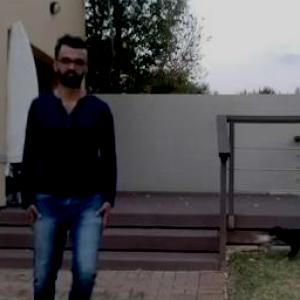follow: (19, 26, 132, 299)
